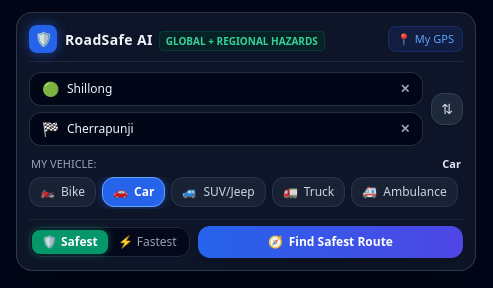
it: SearchHeader Place Name Isolation (Task 2) › selecting a destination does not change the origin field and closes dropdown
Replace the text in the field named "Destination location" with "Daw". click: x=229, y=129
box: [67, 121, 392, 137]
Wait 250 ms
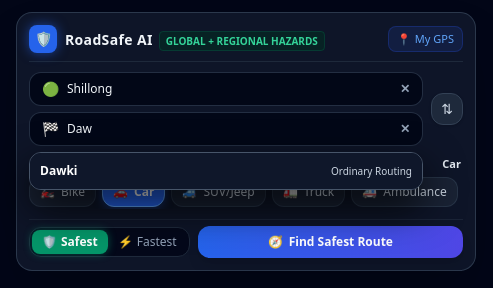
Expected: the list named "Destination suggestions" is shown, [29, 152, 423, 190]
Click the text "Dawki". click: x=59, y=170
box: [40, 162, 78, 179]
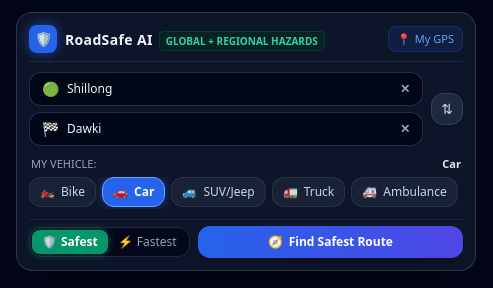
Expected: the field named "Origin location" holds "Shillong", [67, 81, 392, 97]
Expected: the field named "Destination location" holds "Dawki", [67, 121, 392, 137]
Expected: the list is gone
